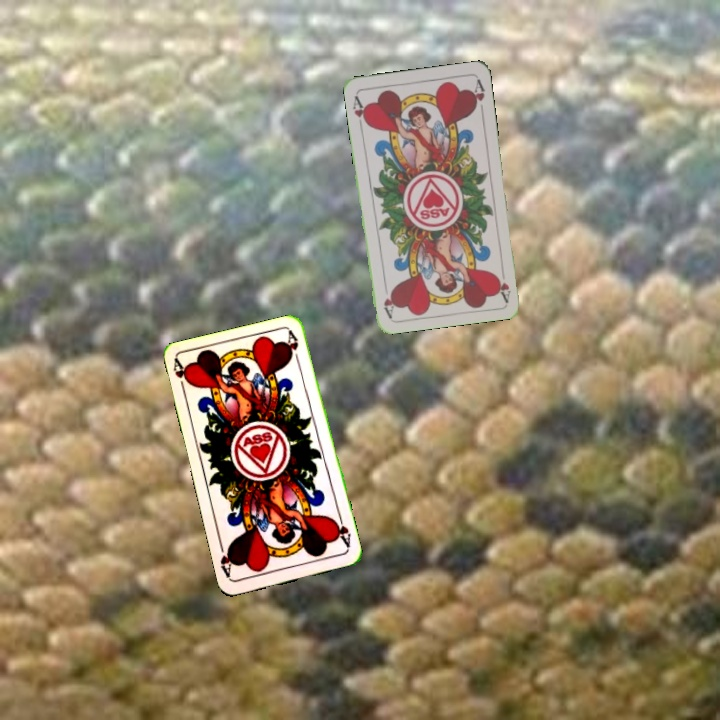HA: (329, 511, 354, 551), (169, 356, 193, 397), (348, 91, 371, 132), (492, 262, 513, 303)
